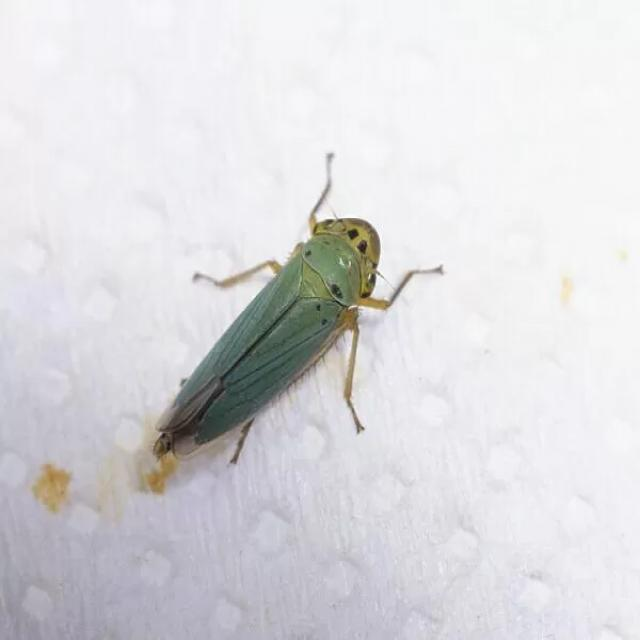Yechan: (122, 182, 426, 484)
